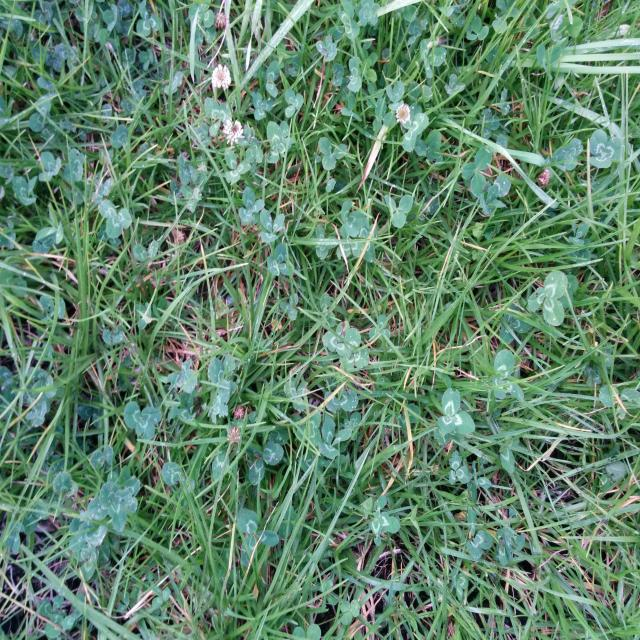Four Leaf Clover: (87, 482, 132, 532)
